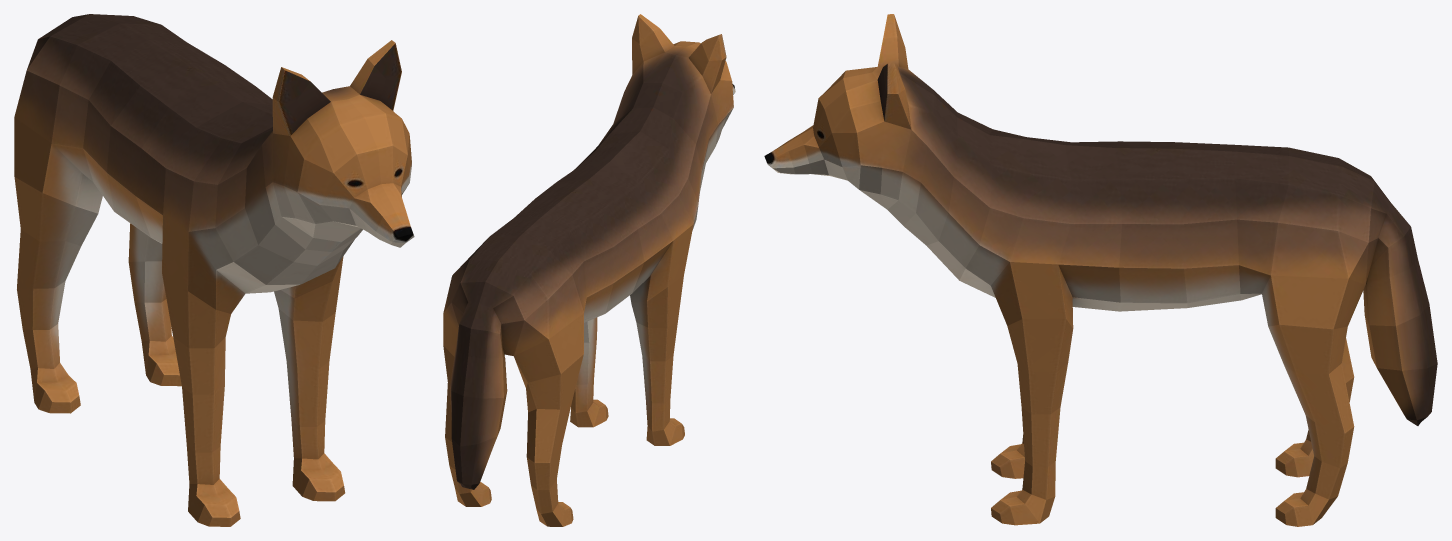
File: coyote.glb
3 renders of one model, left to right at view 1: azimuth 30°, elevation 25°; view 2: azimuth 150°, elevation 25°; view 3: azimuth 270°, elevation 25°, orthographic. The views are drawn at different scales.
Parts seen in each view (by area): view 1: Coyote_Mesh; view 2: Coyote_Mesh; view 3: Coyote_Mesh.
Boxes of the visible parts, x1=… form: Coyote_Mesh: x1=14, y1=14, x2=414, y2=526; Coyote_Mesh: x1=443, y1=14, x2=735, y2=526; Coyote_Mesh: x1=764, y1=14, x2=1437, y2=526.
Bounding box in the file's own units: 1.8 × 5.11 × 6.85.
Materials: 1 (1 with a texture image).
